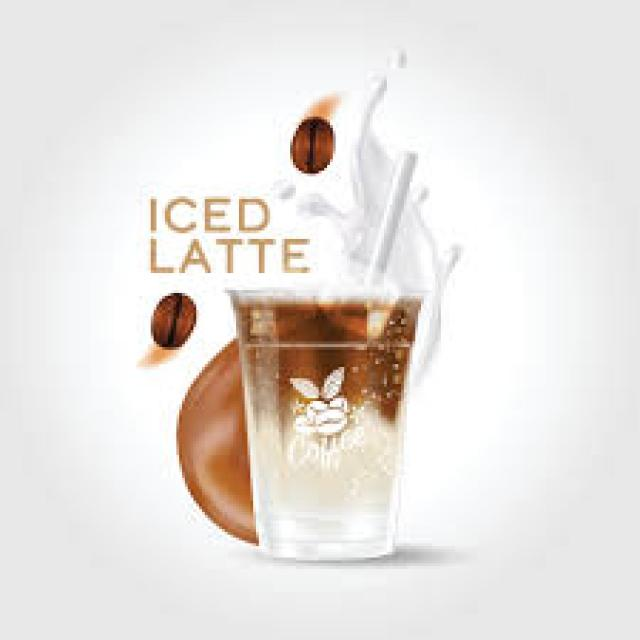bottle: (233, 290, 428, 559)
